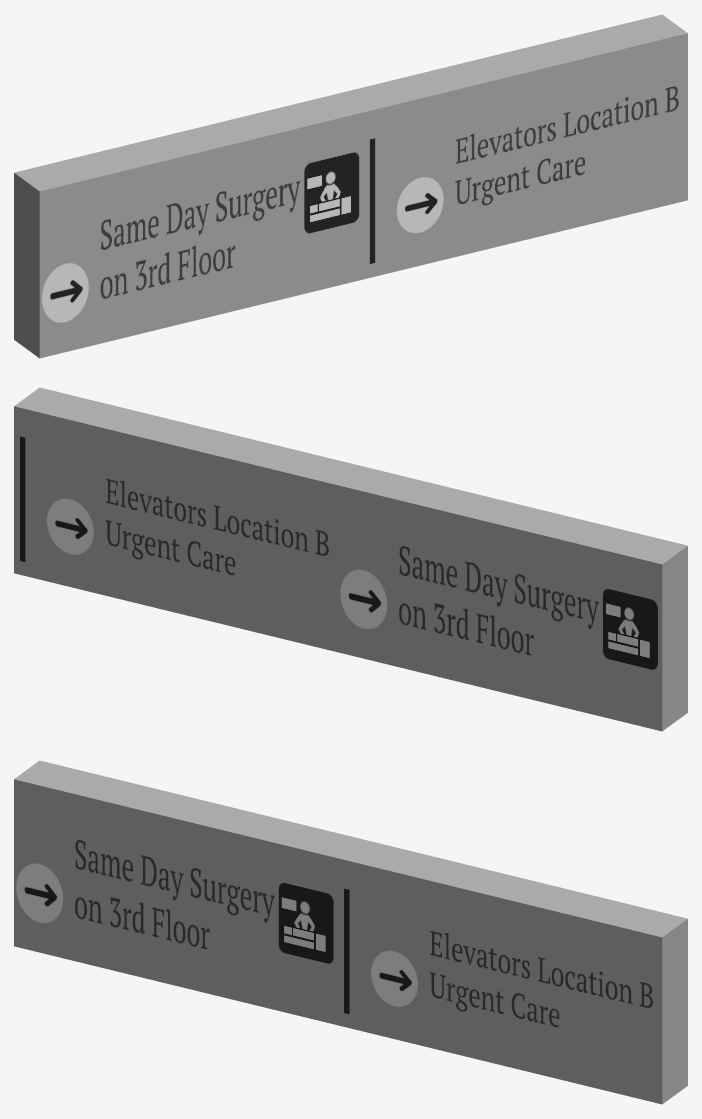
File: lobby_sign.fbx
3 renders of one model, top to bottom at view 1: azimuth 30°, elevation 25°; view 2: azimuth 150°, elevation 25°; view 3: azimuth 330°, elevation 25°, orthographic.
Parts seen in each view (by area): view 1: lobby_sign1; view 2: lobby_sign1; view 3: lobby_sign1.
Boxes of the visible parts, x1,y1,x2,y2 form: lobby_sign1: [14, 14, 687, 358]; lobby_sign1: [14, 387, 687, 731]; lobby_sign1: [14, 760, 687, 1104].
Size of the model in its own units: 3.47 by 0.8544 by 0.2382.
Materials: 1 (1 with a texture image).
